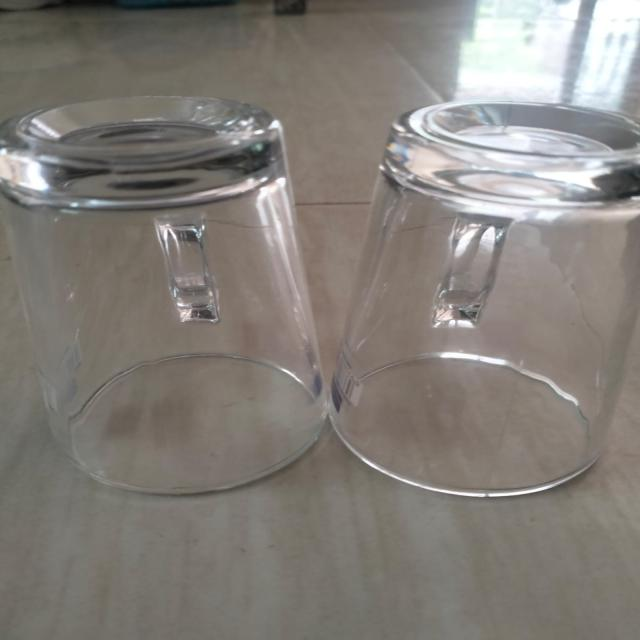glass-VX4N: (0, 91, 340, 497), (327, 98, 640, 499)
